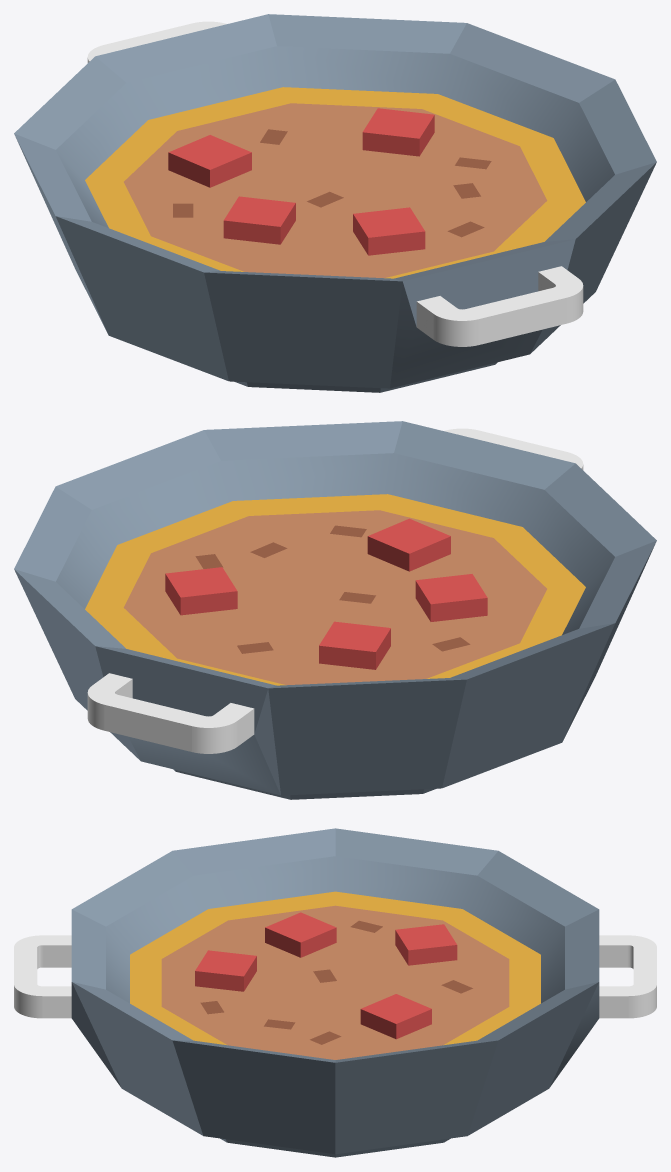
File: panStew.dae
3 views of the same model, one above another, from view 1: azimuth 30°, elevation 25°; view 2: azimuth 150°, elevation 25°; view 3: azimuth 270°, elevation 25° (orthographic). The views are drawn at different scales.
Parts seen in each view (by area): view 1: panStew; view 2: panStew; view 3: panStew.
Part boxes in pixels (bbox=[...]): panStew: bbox=[14, 14, 656, 392]; panStew: bbox=[14, 421, 656, 799]; panStew: bbox=[14, 828, 656, 1157].
Bounding box in the file's own units: 0.6575 × 0.1753 × 0.7621.
